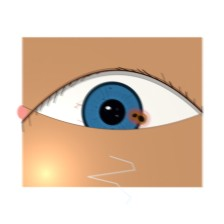foreign_body_visible: (123, 104, 159, 133)
